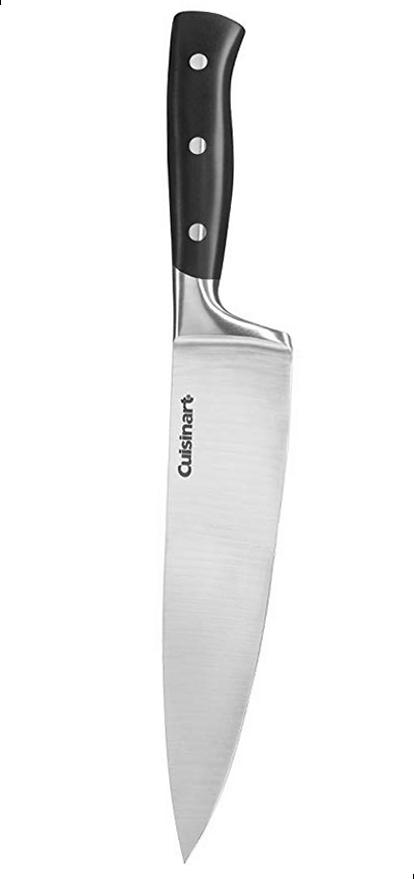knife: (160, 11, 296, 869)
